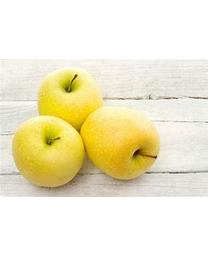apple: (79, 105, 159, 180), (11, 115, 84, 188), (36, 66, 103, 129)
